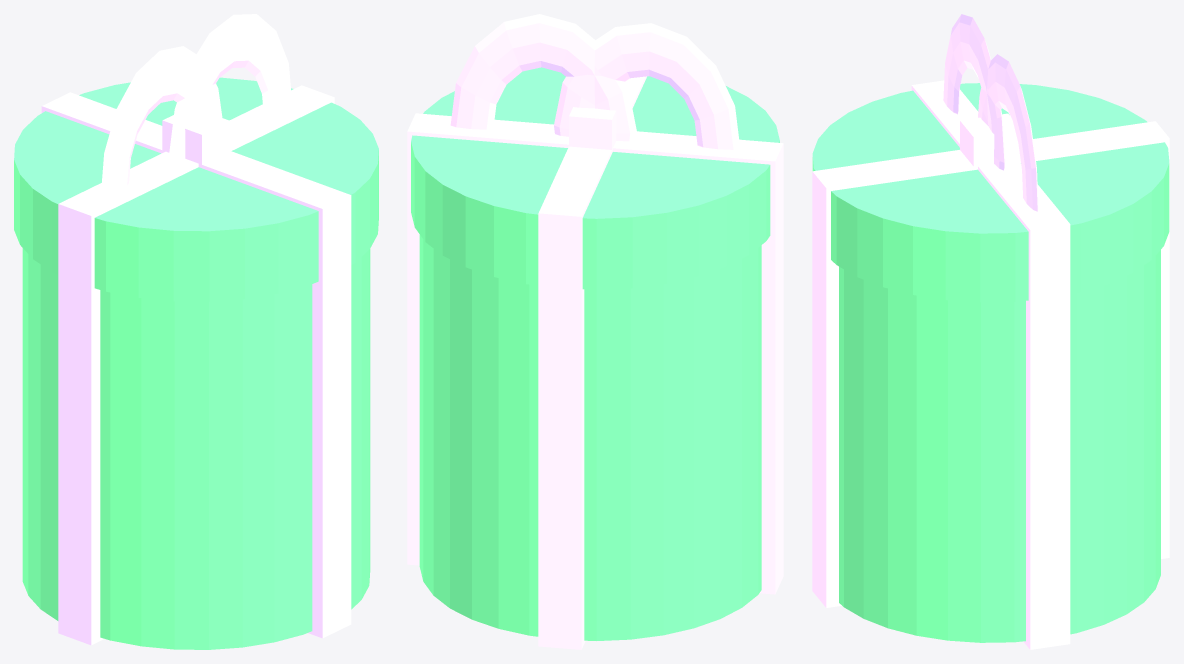
The model's file is Tmpl_Round_Root_194.glb.
3 views of the same model, side by side, from view 1: azimuth 30°, elevation 25°; view 2: azimuth 150°, elevation 25°; view 3: azimuth 270°, elevation 25° (orthographic). The views are drawn at different scales.
Visible parts, largest first — view 1: Tmpl_Round_Base.192, Tmpl_Round_Lid.192, Tmpl_Round_Ribbon_X.192, Tmpl_Round_Ribbon_Y.192, Tmpl_Round_BowR.192, Tmpl_Round_BowL.192, Tmpl_Round_BowKnot.192; view 2: Tmpl_Round_Base.192, Tmpl_Round_Lid.192, Tmpl_Round_Ribbon_Y.192, Tmpl_Round_Ribbon_X.192, Tmpl_Round_BowR.192, Tmpl_Round_BowL.192, Tmpl_Round_BowKnot.192; view 3: Tmpl_Round_Base.192, Tmpl_Round_Lid.192, Tmpl_Round_Ribbon_X.192, Tmpl_Round_Ribbon_Y.192, Tmpl_Round_BowL.192, Tmpl_Round_BowR.192, Tmpl_Round_BowKnot.192.
Part boxes in pixels (x1=…): Tmpl_Round_Base.192: x1=22, y1=248, x2=370, y2=649; Tmpl_Round_Lid.192: x1=14, y1=77, x2=378, y2=301; Tmpl_Round_Ribbon_X.192: x1=58, y1=85, x2=334, y2=645; Tmpl_Round_Ribbon_Y.192: x1=41, y1=92, x2=351, y2=638; Tmpl_Round_BowR.192: x1=169, y1=14, x2=292, y2=163; Tmpl_Round_BowL.192: x1=100, y1=46, x2=222, y2=197; Tmpl_Round_BowKnot.192: x1=162, y1=115, x2=230, y2=167; Tmpl_Round_Base.192: x1=419, y1=234, x2=761, y2=640; Tmpl_Round_Lid.192: x1=411, y1=67, x2=779, y2=289; Tmpl_Round_Ribbon_Y.192: x1=538, y1=76, x2=646, y2=649; Tmpl_Round_Ribbon_X.192: x1=407, y1=113, x2=783, y2=594; Tmpl_Round_BowR.192: x1=450, y1=14, x2=636, y2=141; Tmpl_Round_BowL.192: x1=554, y1=23, x2=740, y2=149; Tmpl_Round_BowKnot.192: x1=569, y1=107, x2=616, y2=152; Tmpl_Round_Base.192: x1=839, y1=250, x2=1160, y2=642; Tmpl_Round_Lid.192: x1=812, y1=83, x2=1169, y2=302; Tmpl_Round_Ribbon_X.192: x1=911, y1=80, x2=1070, y2=649; Tmpl_Round_Ribbon_Y.192: x1=812, y1=121, x2=1169, y2=607; Tmpl_Round_BowL.192: x1=943, y1=14, x2=1005, y2=170; Tmpl_Round_BowR.192: x1=978, y1=54, x2=1038, y2=211; Tmpl_Round_BowKnot.192: x1=960, y1=113, x2=1020, y2=169.
Bounding box in the file's own units: 0.6504 × 1.07 × 0.6504.
